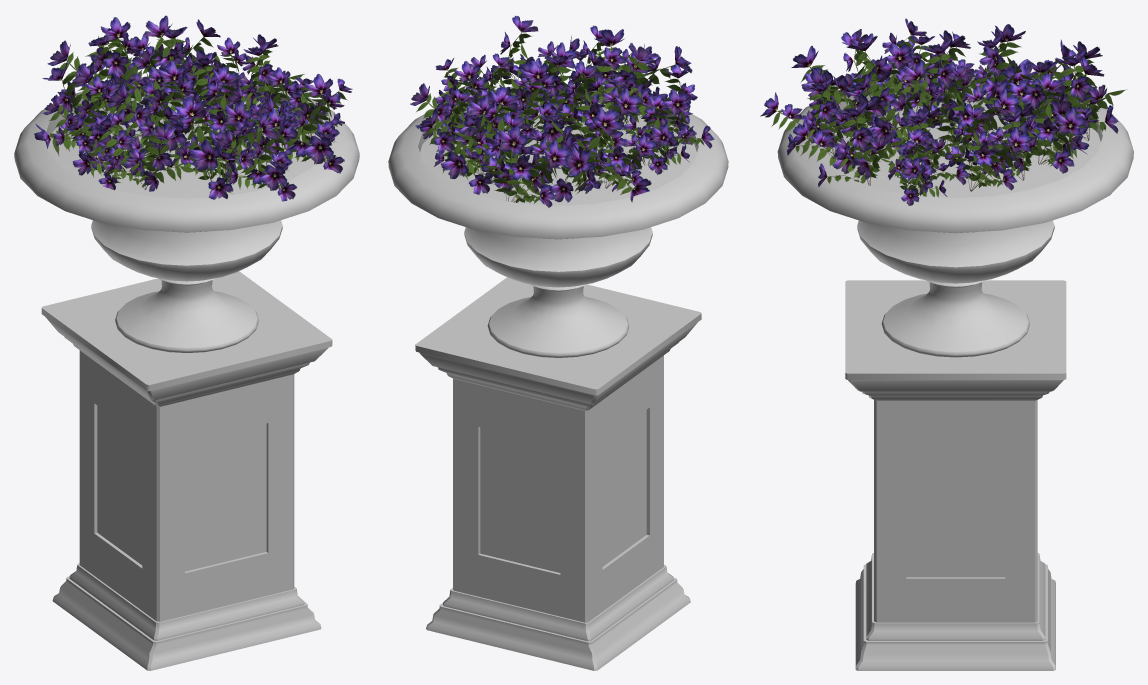
3 renders of one model, left to right at view 1: azimuth 30°, elevation 25°; view 2: azimuth 150°, elevation 25°; view 3: azimuth 270°, elevation 25°, orthographic. The views are drawn at different scales.
Parts seen in each view (by area): view 1: GardenUrn, Frowers; view 2: GardenUrn, Frowers; view 3: GardenUrn, Frowers.
Part boxes in pixels (x1,y1,x2,y2): GardenUrn: [14, 76, 359, 670]; Frowers: [34, 15, 352, 201]; GardenUrn: [388, 84, 728, 670]; Frowers: [410, 16, 714, 207]; GardenUrn: [777, 72, 1133, 670]; Frowers: [760, 18, 1126, 205].
Size of the model in its own units: 65.13 by 117 by 68.92.
